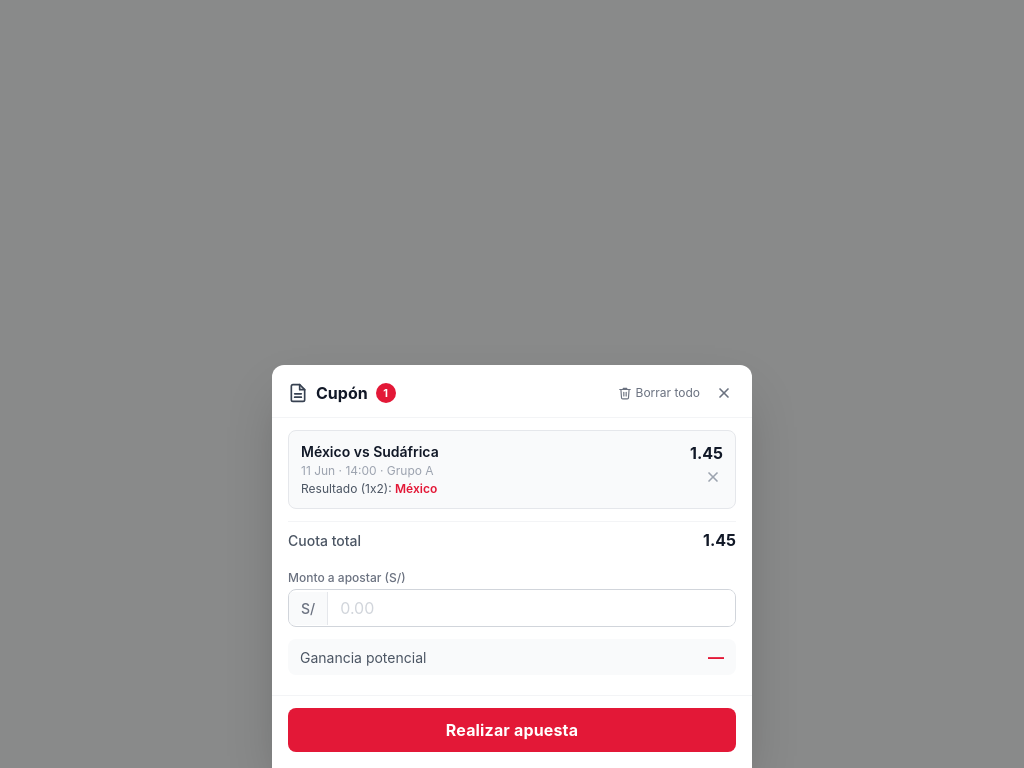
BettingSlip — monto y ganancia potencial › calcular ganancia potencial al escribir el monto (100 × 1.45 = 145.00)
This screenshot has width=1024, height=768.
Type "100" into the number field. click: (532, 608)
box: [328,590,735,626]
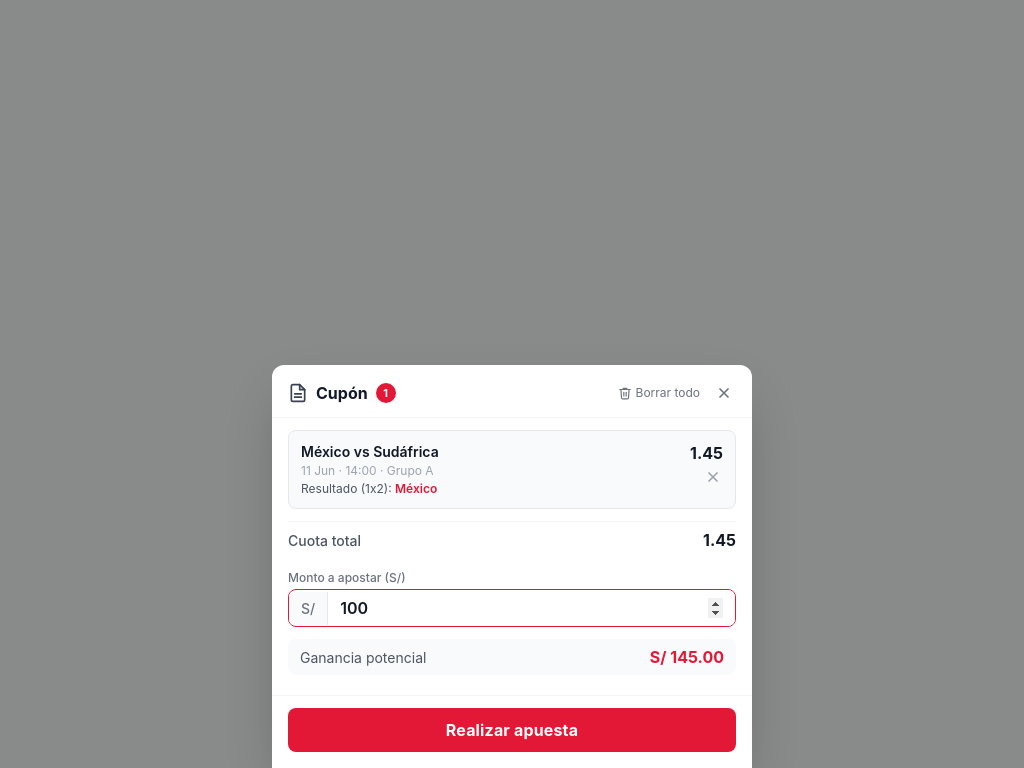
Check: the text "S/ 145.00" is shown, box [650,647,724,667]
